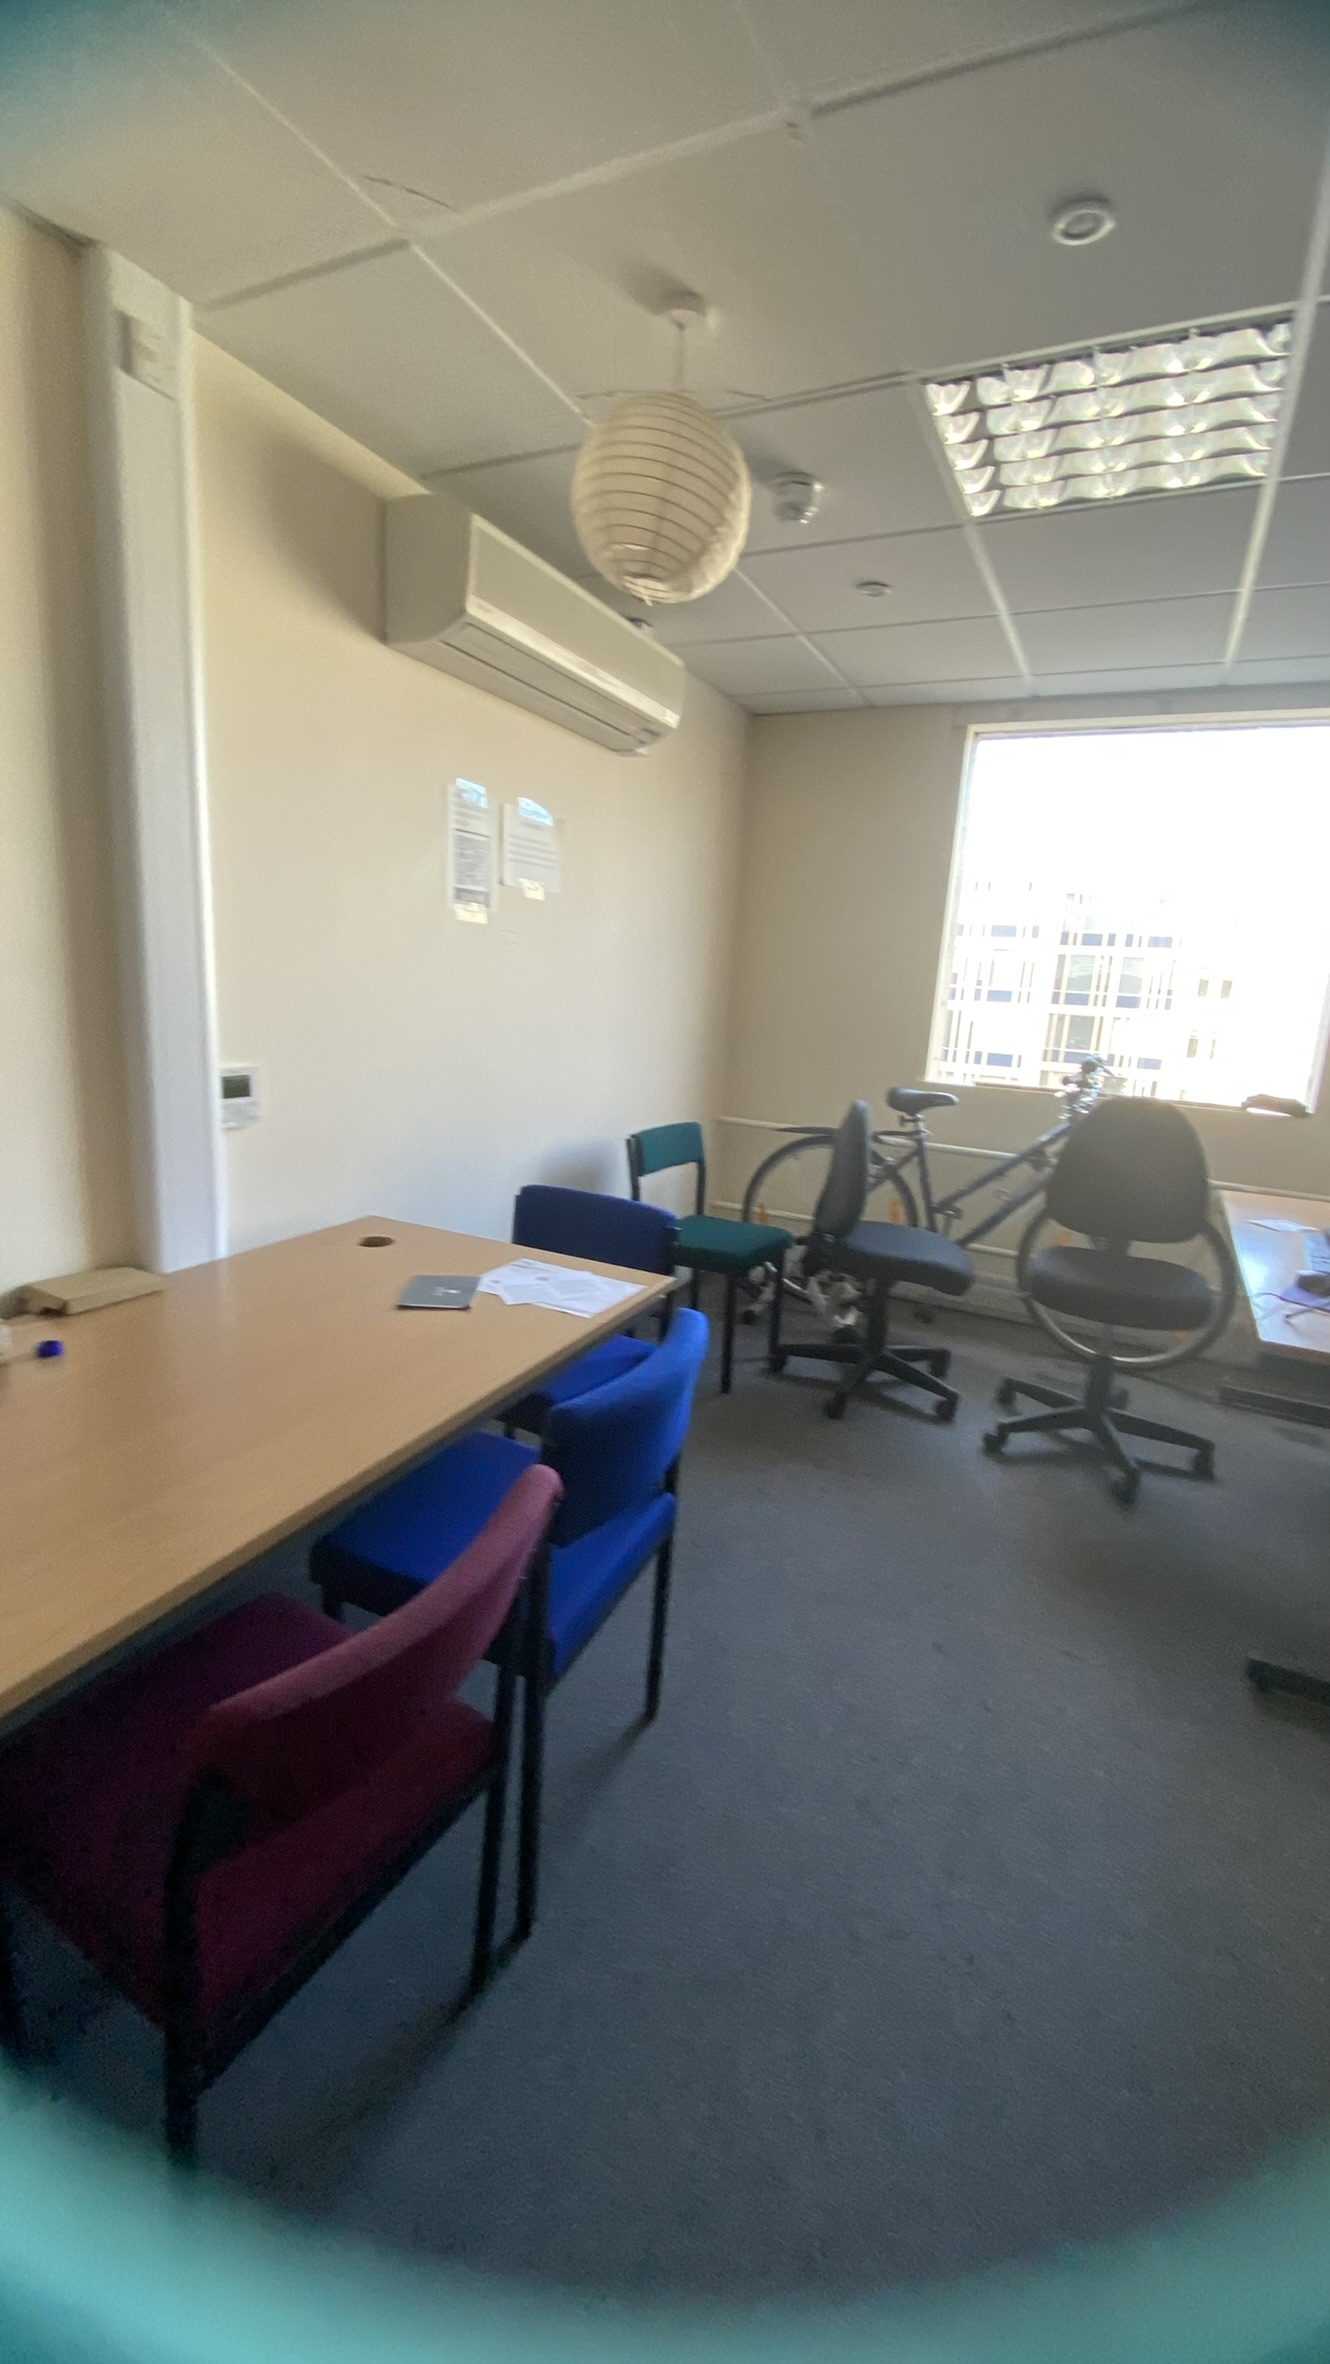table: (71, 1179, 715, 2145)
